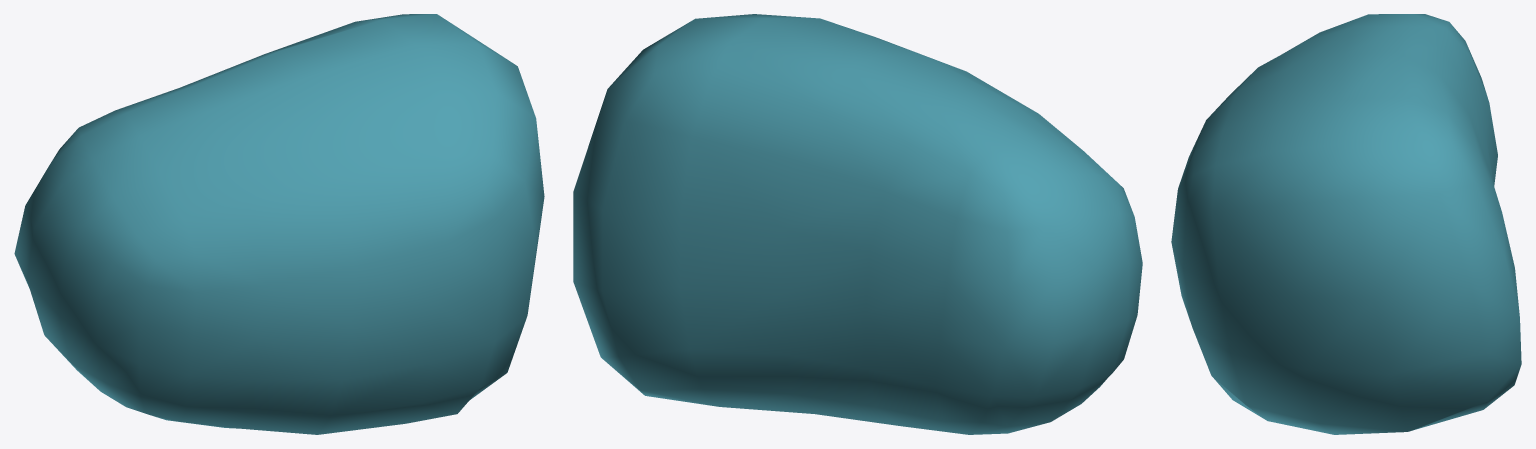
The model's file is VIS_Alpha_Surface_048.dae.
The picture shows the model from 3 angles, left to right: view 1: azimuth 30°, elevation 25°; view 2: azimuth 150°, elevation 25°; view 3: azimuth 270°, elevation 25°; orthographic projection. The views are drawn at different scales.
Parts seen in each view (by area): view 1: VIS_Alpha_Surface_048; view 2: VIS_Alpha_Surface_048; view 3: VIS_Alpha_Surface_048.
Part boxes in pixels (x1,y1,x2,y2): VIS_Alpha_Surface_048: (14, 14, 544, 434); VIS_Alpha_Surface_048: (573, 14, 1142, 434); VIS_Alpha_Surface_048: (1171, 14, 1521, 434).
Size of the model in its own units: 0.0306 by 0.0204 by 0.0209.
